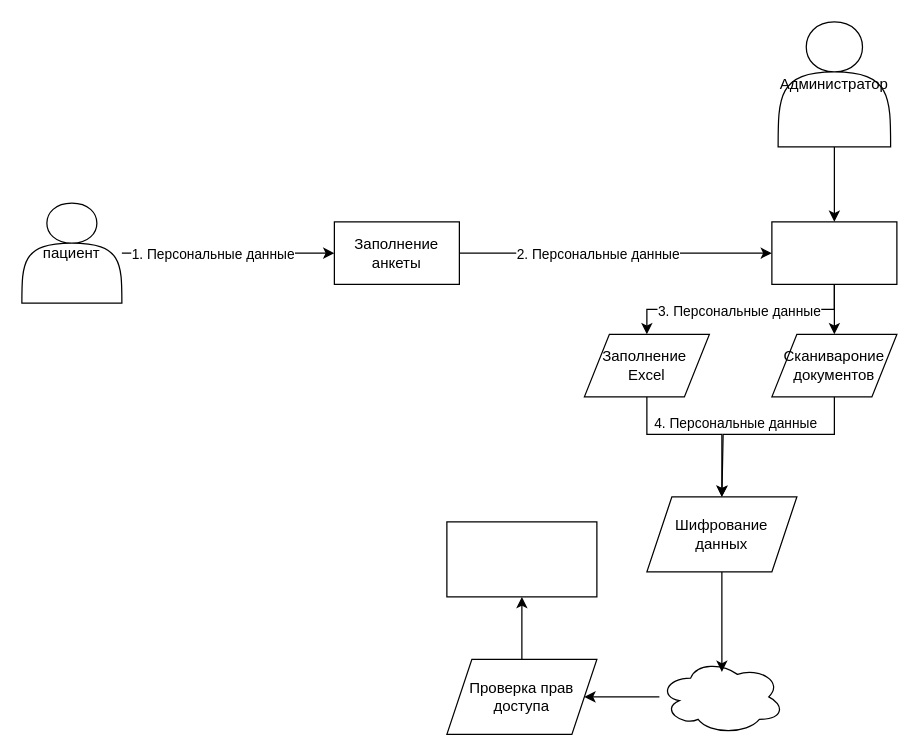
This 919x756 diagram has some shape labels left out. The centre of each missing label's shape, as x and y in pixels:
Active Directory: point (521, 559)
Проверка данных: point (834, 252)
Хранилище файлов: point (721, 696)
